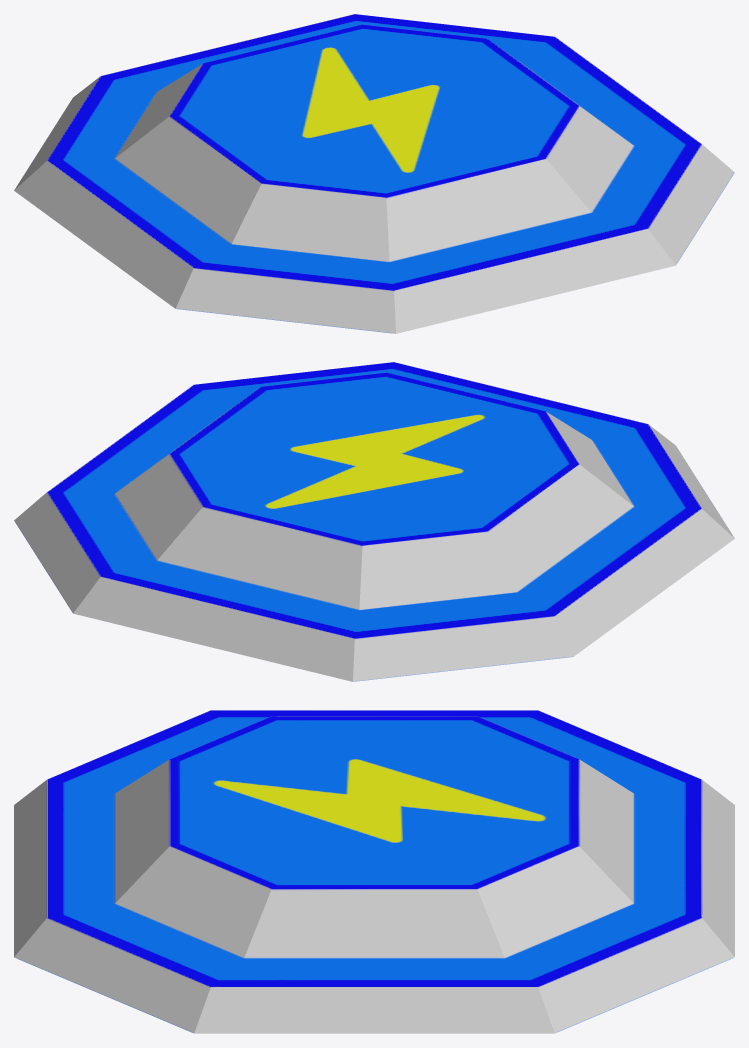
File: Endpoint.fbx
3 renders of one model, top to bottom at view 1: azimuth 30°, elevation 25°; view 2: azimuth 150°, elevation 25°; view 3: azimuth 270°, elevation 25°, orthographic. The views are drawn at different scales.
Visible parts, largest first — view 1: pCube1; view 2: pCube1; view 3: pCube1.
Boxes of the visible parts, left/top/right/bottom form: pCube1: left=14, top=14, right=734, bottom=333; pCube1: left=14, top=362, right=734, bottom=681; pCube1: left=14, top=710, right=734, bottom=1033.
Size of the model in its own units: 175 by 21.01 by 175.
